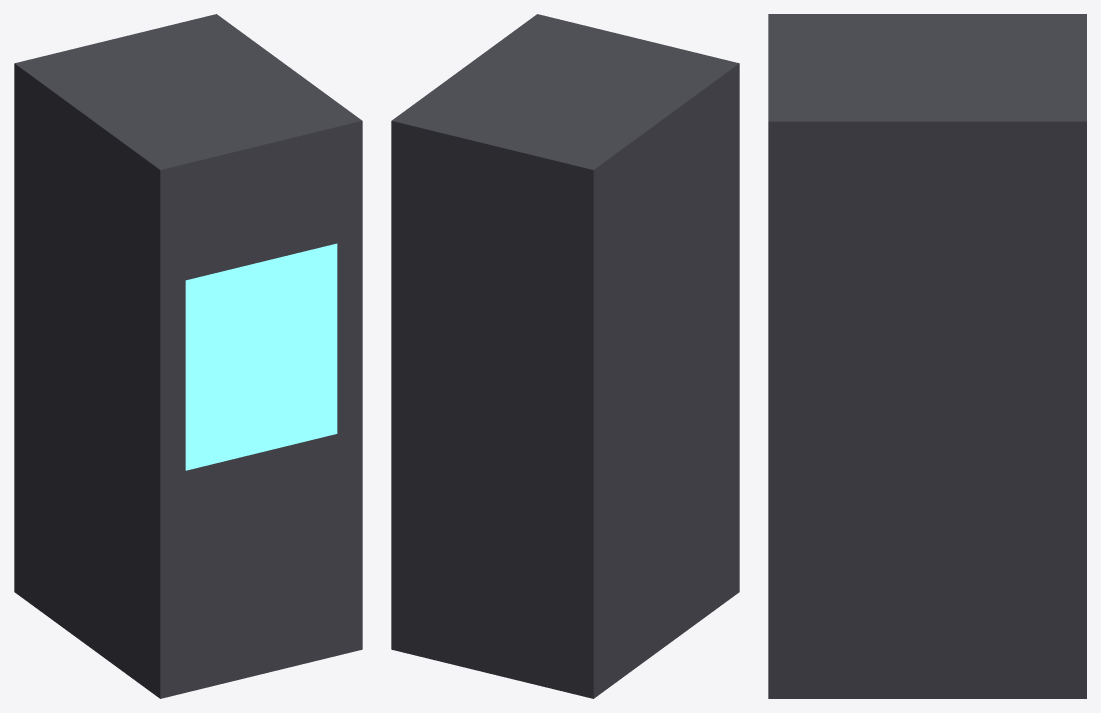
The model's file is prop_server_rack.glb.
The picture shows the model from 3 angles, left to right: view 1: azimuth 30°, elevation 25°; view 2: azimuth 150°, elevation 25°; view 3: azimuth 270°, elevation 25°; orthographic projection. The views are drawn at different scales.
Parts seen in each view (by area): view 1: ServerRack; view 2: ServerRack; view 3: ServerRack.
Part boxes in pixels (<box>): ServerRack: <box>14,14,362,698</box>; ServerRack: <box>391,14,739,698</box>; ServerRack: <box>768,14,1086,698</box>.
Size of the model in its own units: 0.8 by 2 by 1.
